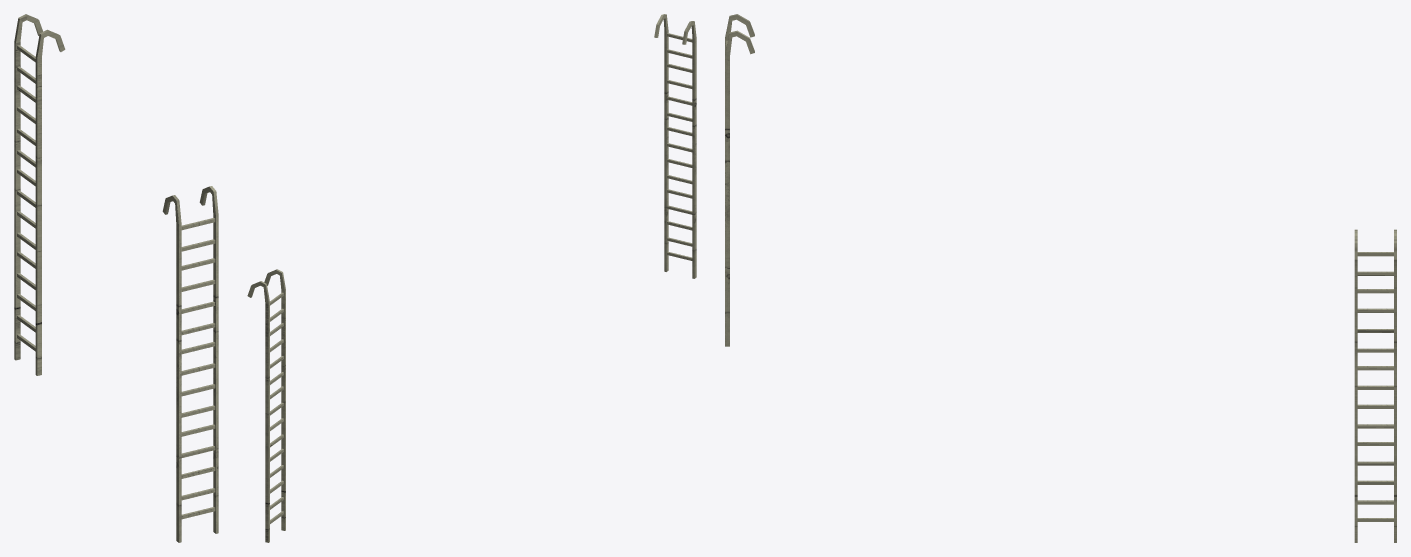
File: SM_NeoLD_00_Ladder_00.fbx
3 renders of one model, left to right at view 1: azimuth 30°, elevation 25°; view 2: azimuth 150°, elevation 25°; view 3: azimuth 270°, elevation 25°, orthographic. The views are drawn at different scales.
Visible parts, largest first — view 1: SM_NeoLD_00_Ladder_00; view 2: SM_NeoLD_00_Ladder_00; view 3: SM_NeoLD_00_Ladder_00.
Part boxes in pixels (x1,y1,x2,y2): SM_NeoLD_00_Ladder_00: [14, 14, 218, 542]; SM_NeoLD_00_Ladder_00: [247, 14, 696, 542]; SM_NeoLD_00_Ladder_00: [725, 14, 1396, 542].
Size of the model in its own units: 1216 by 2413 by 3362.
